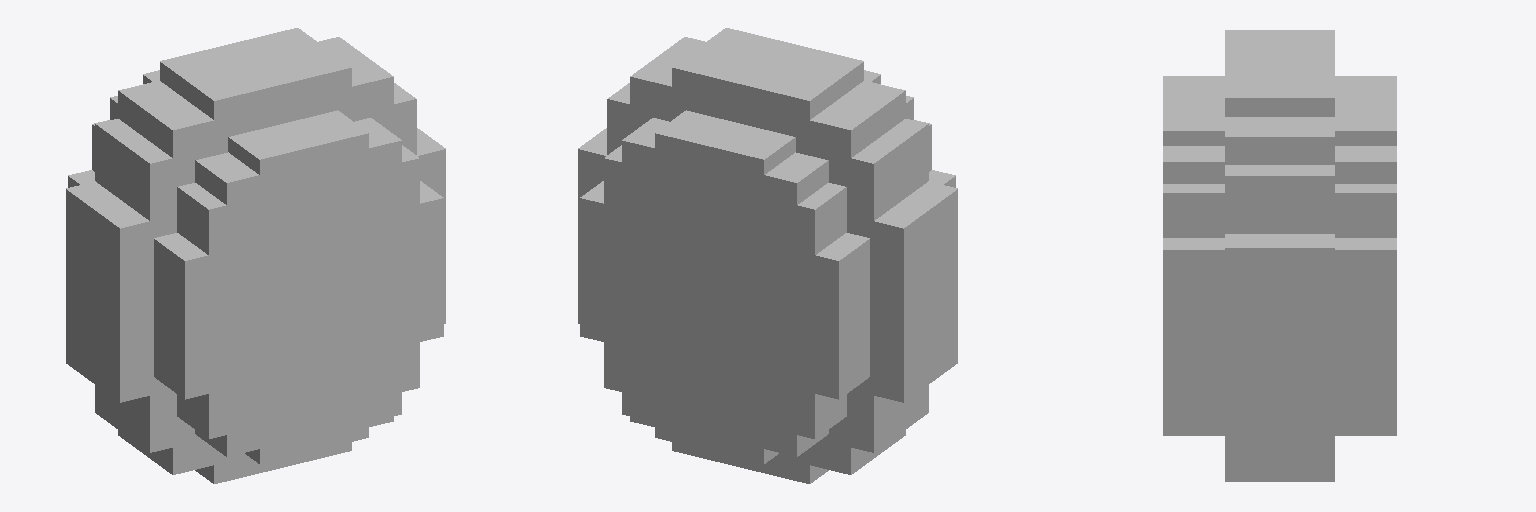
The model's file is Coin.obj.
3 views of the same model, side by side, from view 1: azimuth 30°, elevation 25°; view 2: azimuth 150°, elevation 25°; view 3: azimuth 270°, elevation 25° (orthographic).
Parts seen in each view (by area): view 1: Cube.001_Cube.003, Cube_Cube.002; view 2: Cube.001_Cube.003, Cube_Cube.002; view 3: Cube_Cube.002, Cube.001_Cube.003.
Part boxes in pixels (x1,y1,x2,y2): Cube.001_Cube.003: (68, 70, 443, 463); Cube_Cube.002: (66, 28, 445, 483); Cube.001_Cube.003: (580, 70, 955, 463); Cube_Cube.002: (578, 28, 957, 483); Cube_Cube.002: (1225, 30, 1334, 481); Cube.001_Cube.003: (1163, 76, 1396, 435).
Bounding box in the file's own units: 0.2884 × 0.3237 × 0.179.